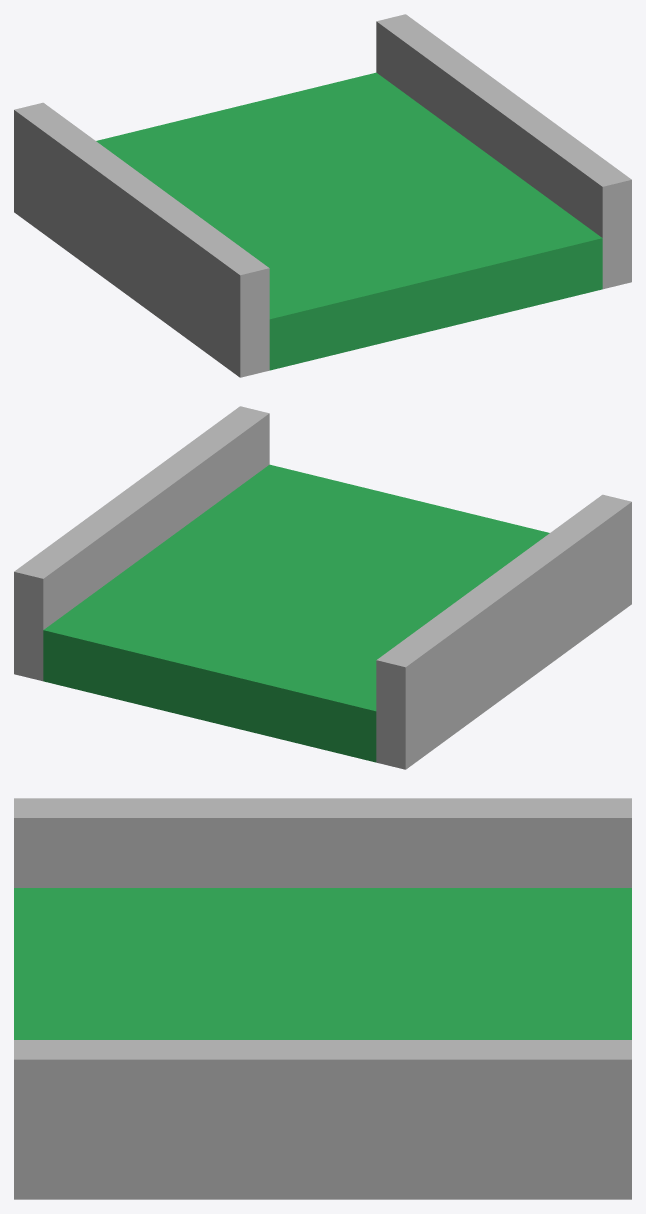
File: SPW_Terrain_City River_Mid.gltf
3 renders of one model, top to bottom at view 1: azimuth 30°, elevation 25°; view 2: azimuth 150°, elevation 25°; view 3: azimuth 270°, elevation 25°, orthographic. The views are drawn at different scales.
Visible parts, largest first — view 1: SPW_Terrain_City_River_Mid; view 2: SPW_Terrain_City_River_Mid; view 3: SPW_Terrain_City_River_Mid.
Boxes of the visible parts, left/top/right/bottom form: SPW_Terrain_City_River_Mid: left=14, top=14, right=631, bottom=377; SPW_Terrain_City_River_Mid: left=14, top=406, right=631, bottom=769; SPW_Terrain_City_River_Mid: left=14, top=798, right=631, bottom=1199.
Bounding box in the file's own units: 1575 × 394 × 1575.
Materials: 1 (1 with a texture image).
